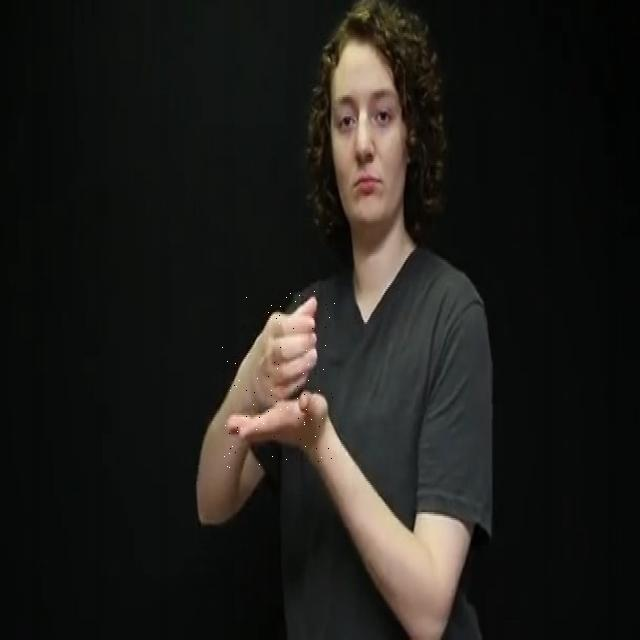cup: (222, 288, 336, 468)
